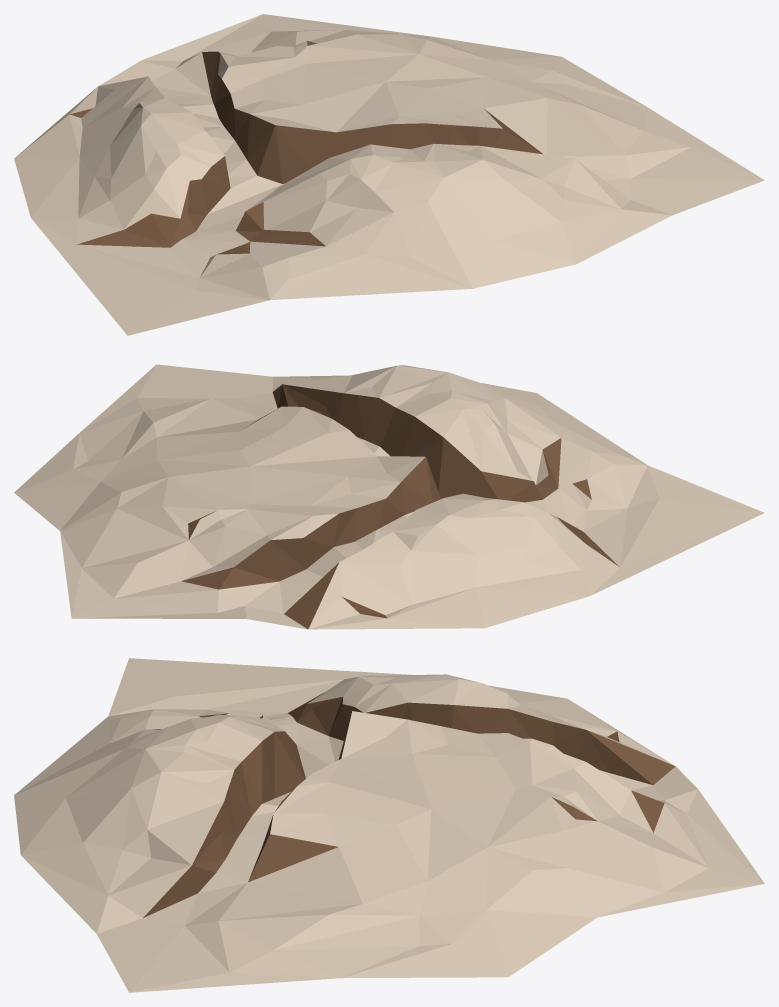
File: Terrain_T_001.fbx
3 renders of one model, top to bottom at view 1: azimuth 30°, elevation 25°; view 2: azimuth 150°, elevation 25°; view 3: azimuth 270°, elevation 25°, orthographic. The views are drawn at different scales.
Parts seen in each view (by area): view 1: Terrain_T_001; view 2: Terrain_T_001; view 3: Terrain_T_001.
Part boxes in pixels (bbox=[...]): Terrain_T_001: bbox=[14, 14, 764, 335]; Terrain_T_001: bbox=[14, 364, 764, 629]; Terrain_T_001: bbox=[14, 658, 764, 992].
Size of the model in its own units: 50.97 by 6.14 by 48.33.
